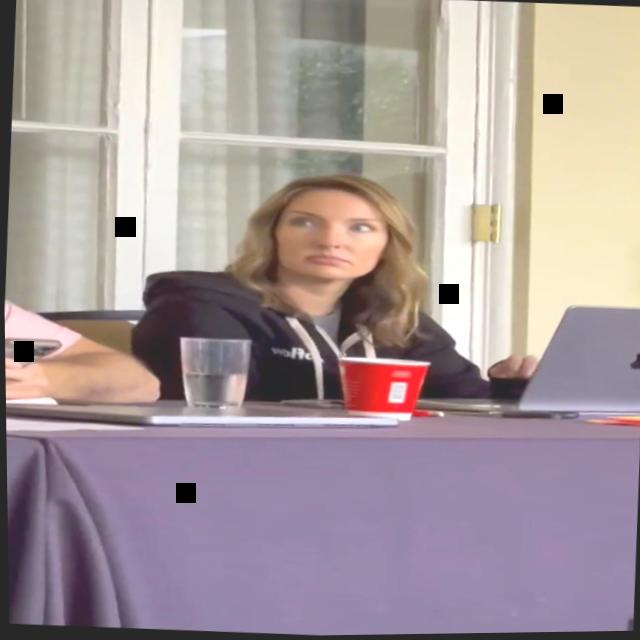NO-Mask: (266, 187, 393, 289)
